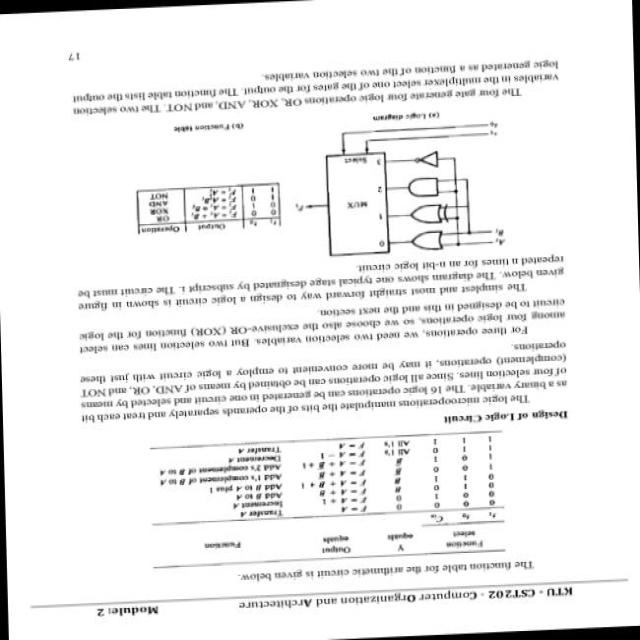Figure Detection - v3 Dataset Version2: (283, 102, 521, 267)
